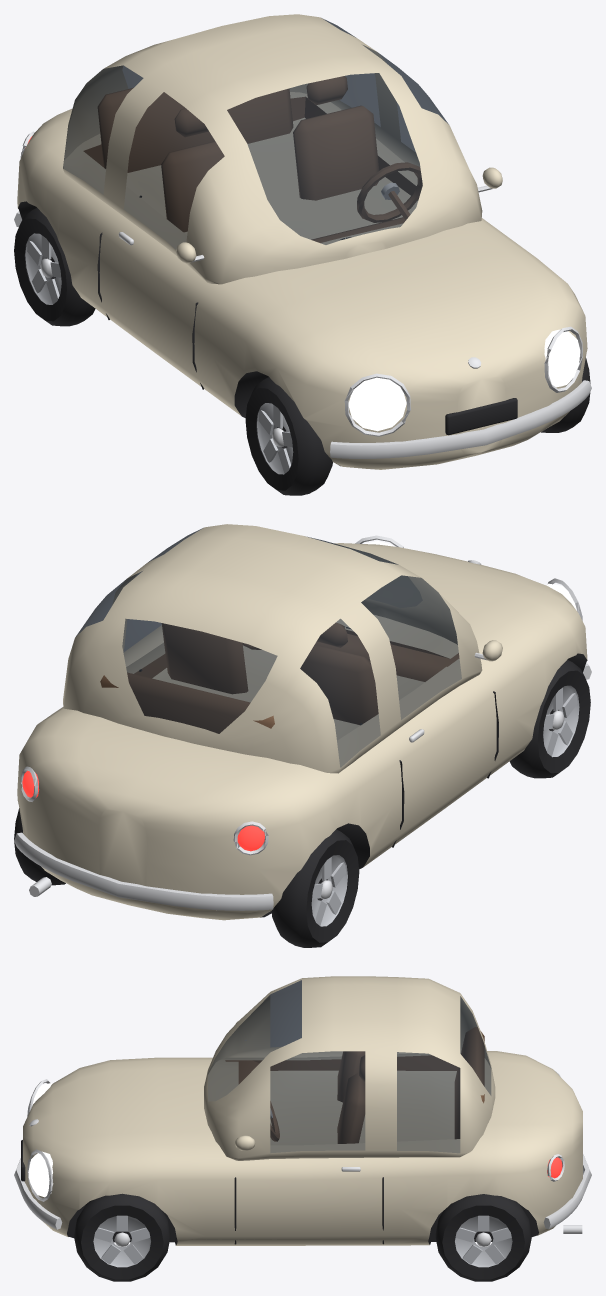
The model's file is compacto.glb.
The picture shows the model from 3 angles, top to bottom: view 1: azimuth 30°, elevation 25°; view 2: azimuth 150°, elevation 25°; view 3: azimuth 270°, elevation 25°; orthographic projection. The views are drawn at different scales.
Visible parts, largest first — view 1: body, wheel_FR_mesh, wheel_RR_mesh, wheel_FL_mesh; view 2: body, wheel_RR_mesh, wheel_FR_mesh, wheel_RL_mesh; view 3: body, wheel_FL_mesh, wheel_RL_mesh.
Part boxes in pixels (x1,y1,x2,y2): body: (14, 14, 591, 469); wheel_FR_mesh: (245, 377, 332, 495); wheel_RR_mesh: (14, 208, 95, 326); wheel_FL_mesh: (541, 358, 590, 432); body: (14, 524, 591, 920); wheel_RR_mesh: (271, 829, 359, 947); wheel_FR_mesh: (509, 660, 590, 778); wheel_RL_mesh: (14, 808, 65, 885); body: (14, 976, 591, 1245); wheel_FL_mesh: (74, 1193, 170, 1281); wheel_RL_mesh: (435, 1194, 531, 1281).
Bounding box in the file's own units: 1.81 × 1.57 × 3.6.
